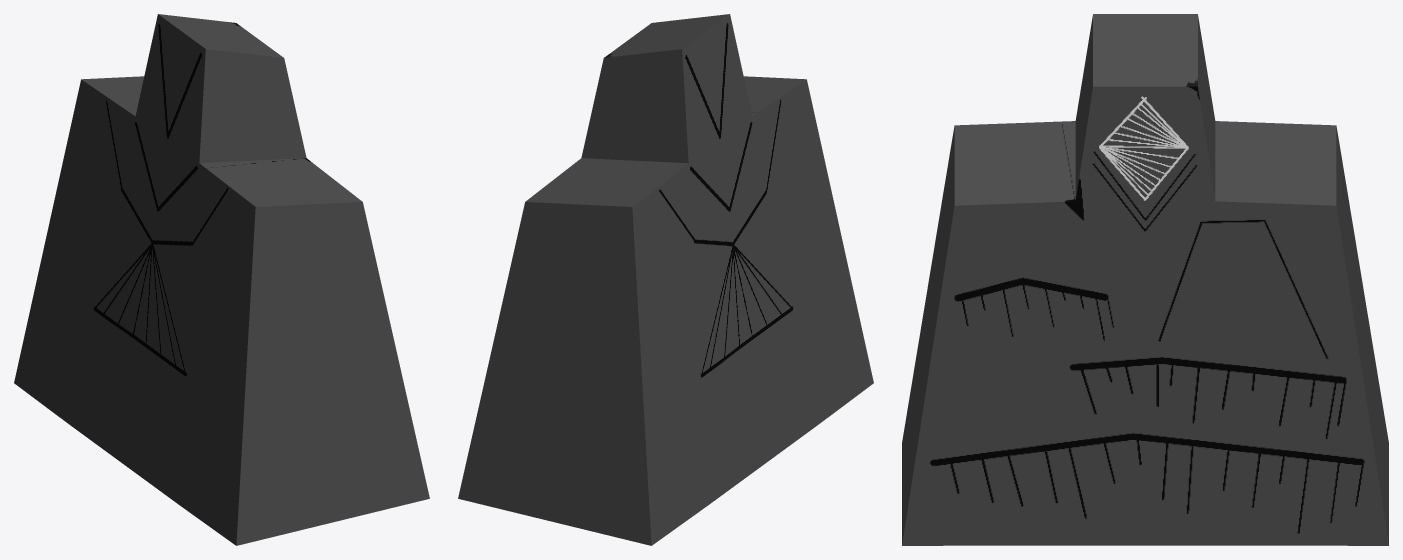
The model's file is obelisk.fbx.
3 views of the same model, side by side, from view 1: azimuth 30°, elevation 25°; view 2: azimuth 150°, elevation 25°; view 3: azimuth 270°, elevation 25° (orthographic). The views are drawn at different scales.
Parts seen in each view (by area): view 1: Cube; view 2: Cube; view 3: Cube.
Part boxes in pixels (x1=…): Cube: x1=14, y1=14, x2=429, y2=545; Cube: x1=458, y1=14, x2=873, y2=545; Cube: x1=902, y1=14, x2=1388, y2=545.
Size of the model in its own units: 201 by 414 by 398.
1 material, 1 textured.
